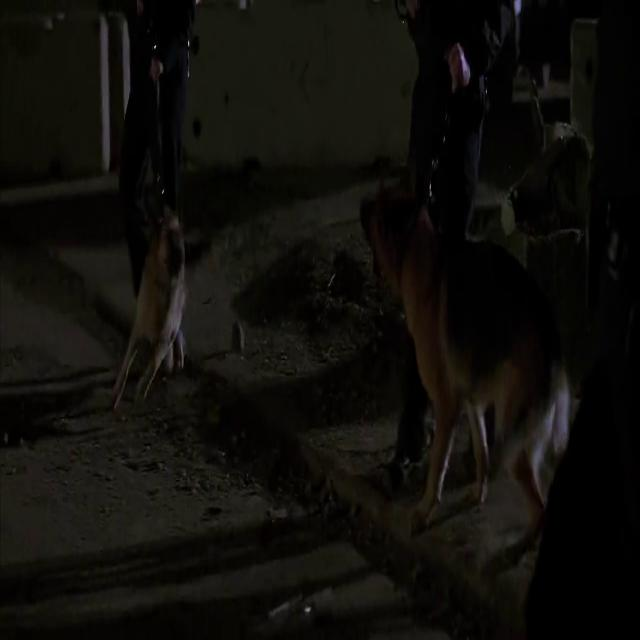dog: (369, 156, 594, 548), (127, 187, 198, 451)
